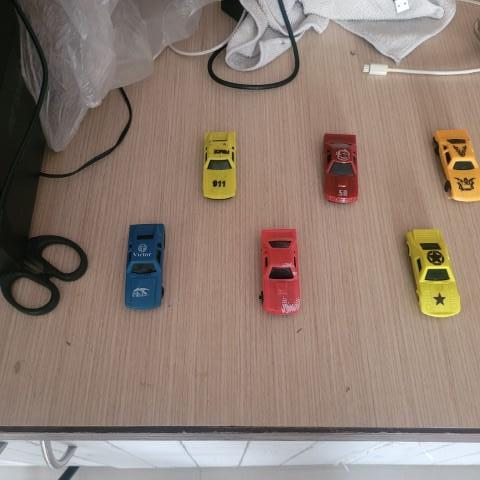car: (404, 225, 462, 317), (124, 218, 173, 315), (256, 224, 305, 314), (430, 122, 480, 201), (197, 126, 242, 204), (316, 129, 360, 206)
